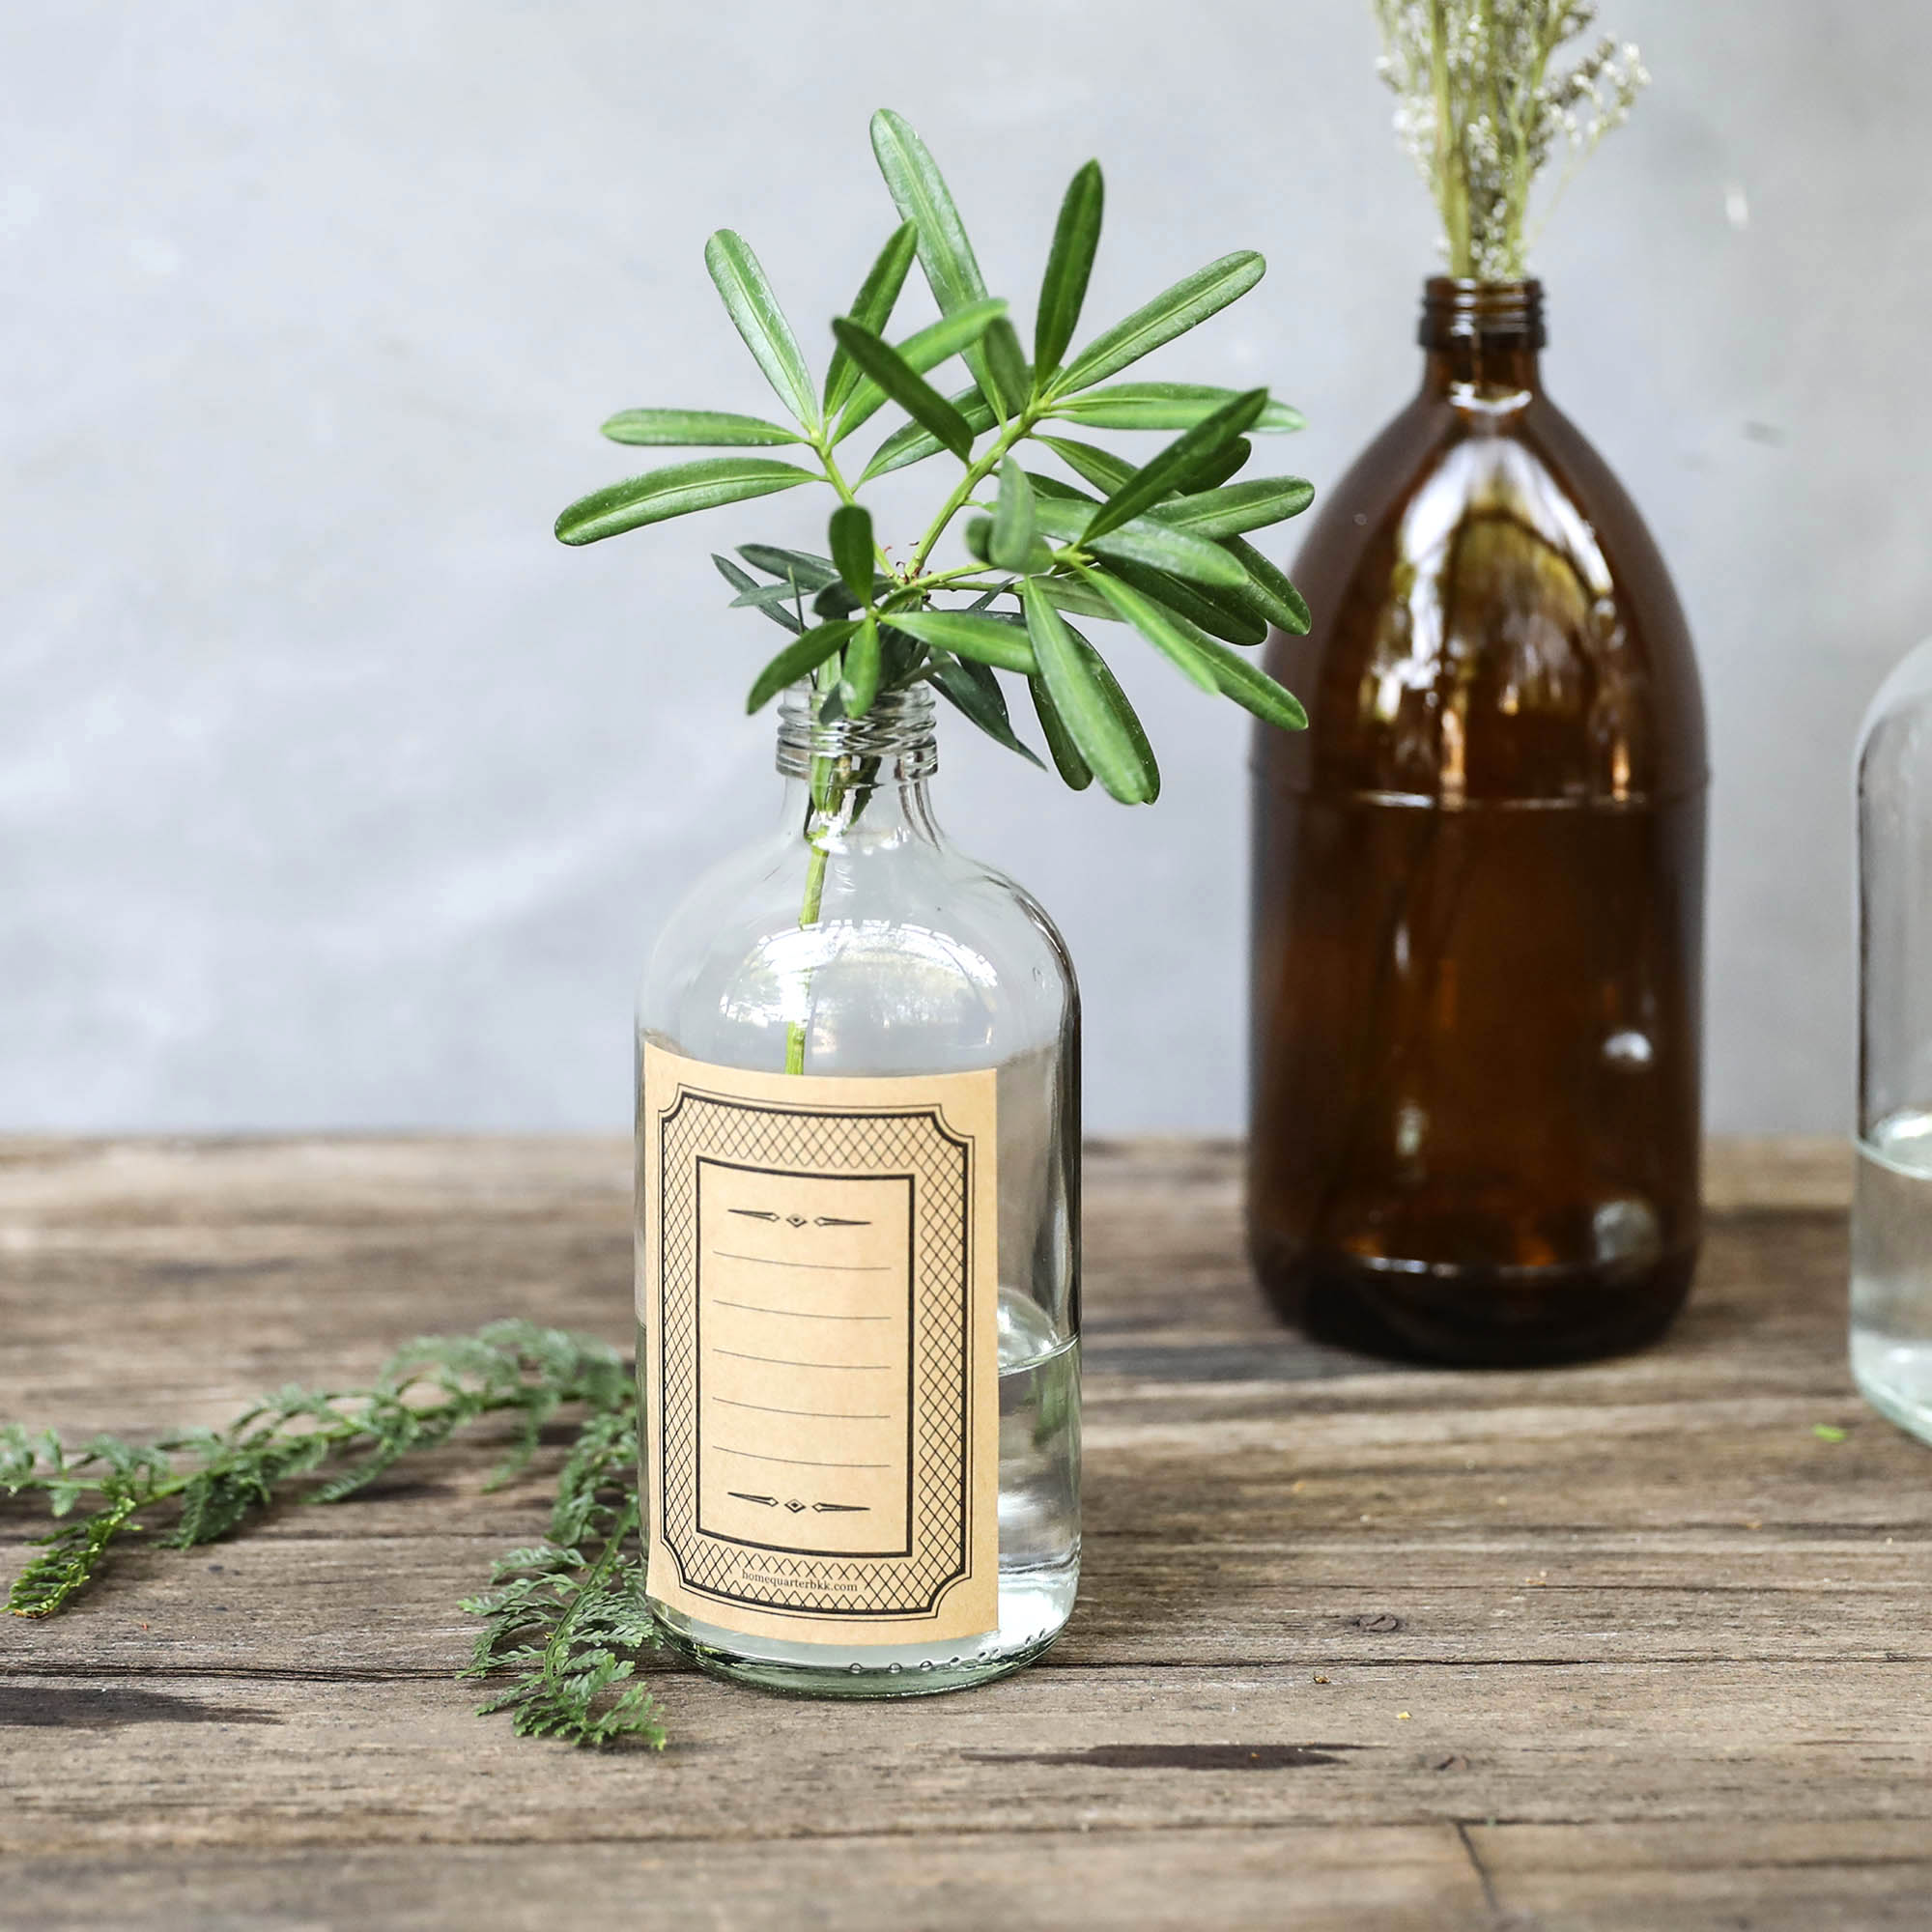glass_bottle: (605, 653, 1118, 1704)
